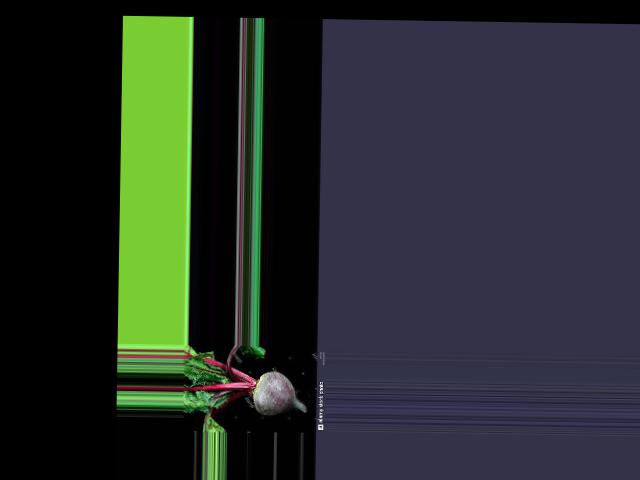beet: (182, 344, 307, 433)
